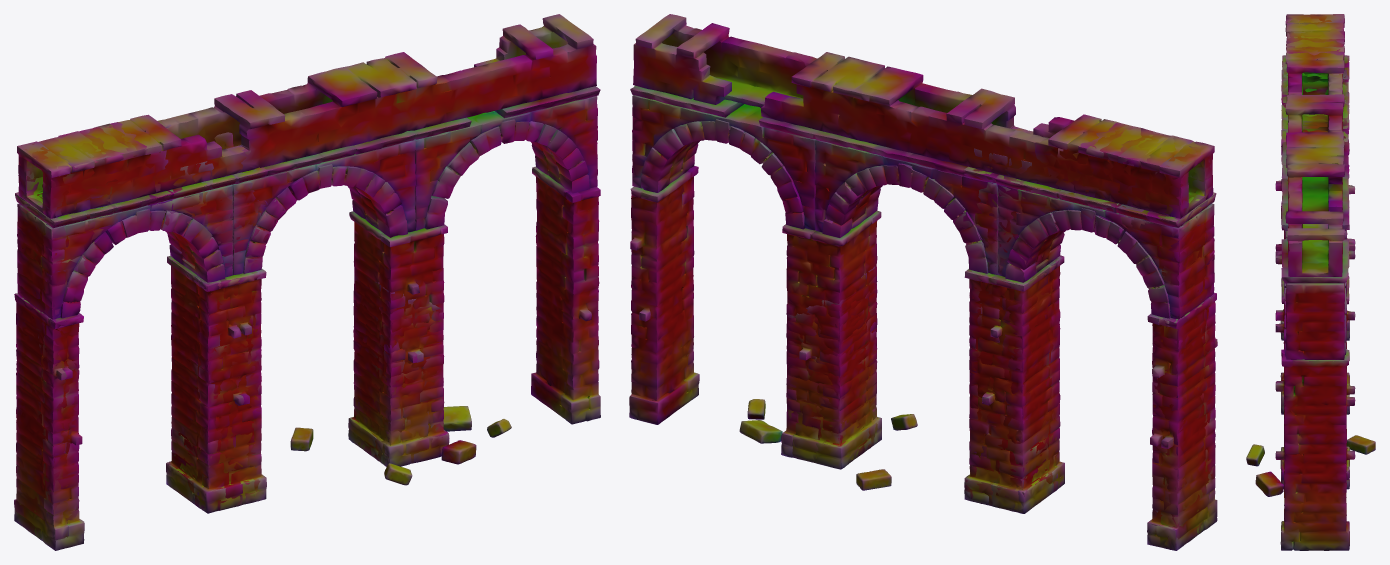
The model's file is aqueduct.glb.
The picture shows the model from 3 angles, left to right: view 1: azimuth 30°, elevation 25°; view 2: azimuth 150°, elevation 25°; view 3: azimuth 270°, elevation 25°; orthographic projection. The views are drawn at different scales.
Parts seen in each view (by area): view 1: Aqueduct_Seg, Aqueduct_End; view 2: Aqueduct_Seg, Aqueduct_End; view 3: Aqueduct_Seg, Aqueduct_End.
Boxes of the visible parts, bbox=[...] form: Aqueduct_Seg: bbox=[14, 14, 600, 550]; Aqueduct_End: bbox=[14, 114, 511, 550]; Aqueduct_Seg: bbox=[629, 14, 1217, 550]; Aqueduct_End: bbox=[739, 114, 1217, 550]; Aqueduct_Seg: bbox=[1275, 14, 1355, 550]; Aqueduct_End: bbox=[1246, 14, 1375, 505].
Size of the model in its own units: 30.01 by 19.81 by 7.38.
